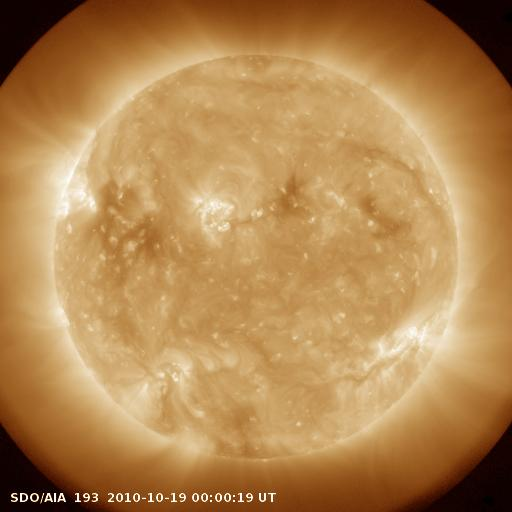coronal_hole: (89, 178, 163, 273), (262, 177, 311, 219), (358, 194, 402, 235)
